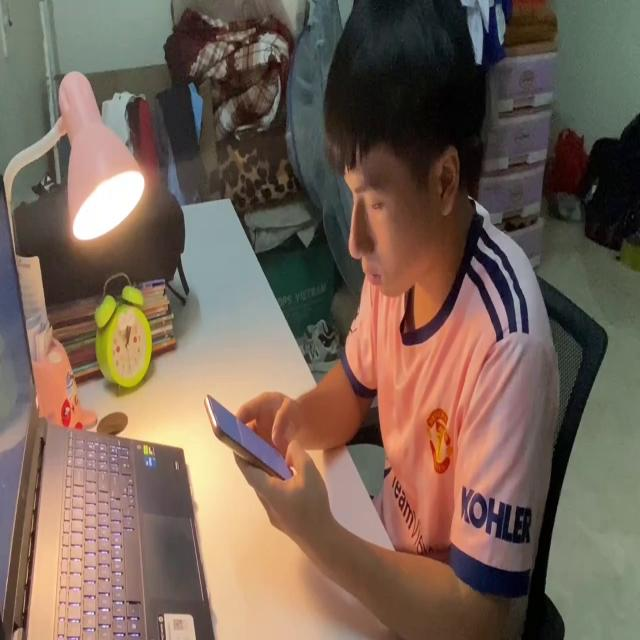laptop: (0, 170, 218, 640)
phone: (200, 385, 296, 487)
student: (231, 0, 558, 640)
